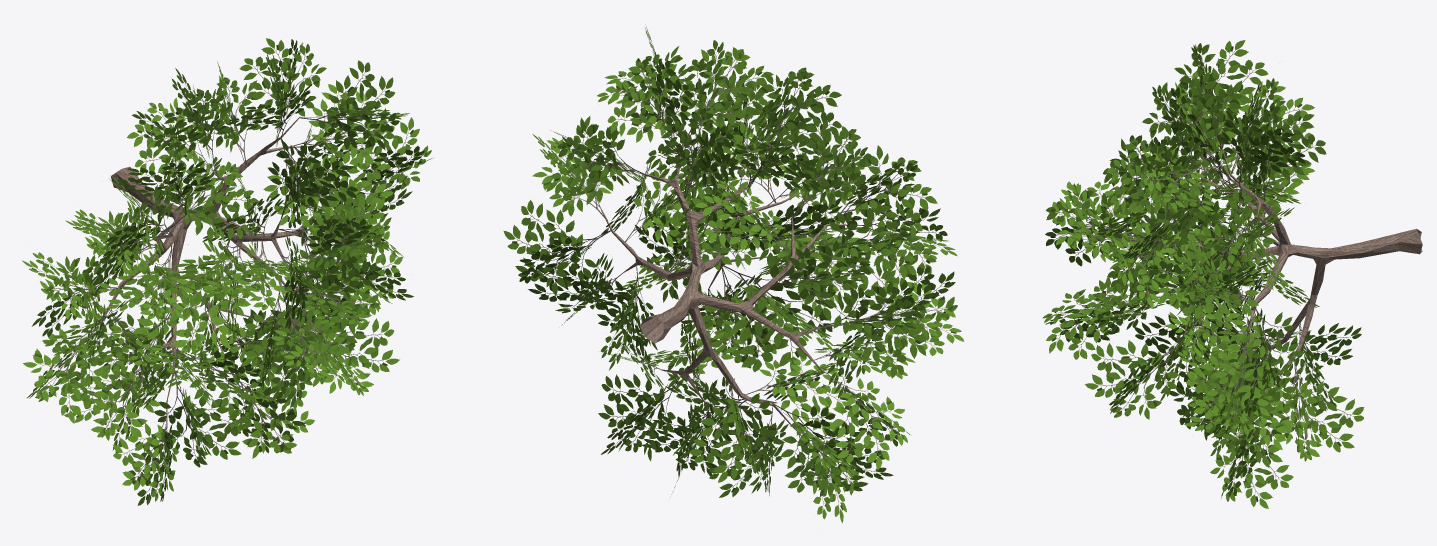
The model's file is lemon_tree_04.glb.
3 views of the same model, side by side, from view 1: azimuth 30°, elevation 25°; view 2: azimuth 150°, elevation 25°; view 3: azimuth 270°, elevation 25° (orthographic). The views are drawn at different scales.
Parts seen in each view (by area): view 1: Lemon_Branch, Lemon_Bark; view 2: Lemon_Branch, Lemon_Bark; view 3: Lemon_Branch, Lemon_Bark.
Part boxes in pixels (box(x1,y1,x2,y2)): Lemon_Branch: box(22, 38, 432, 505); Lemon_Bark: box(104, 117, 314, 404); Lemon_Branch: box(503, 26, 964, 523); Lemon_Bark: box(601, 121, 849, 429); Lemon_Branch: box(1042, 40, 1364, 508); Lemon_Bark: box(1120, 146, 1422, 389).
Bounding box in the file's own units: 3.81 × 3.96 × 3.19.
2 materials, 2 textured.
